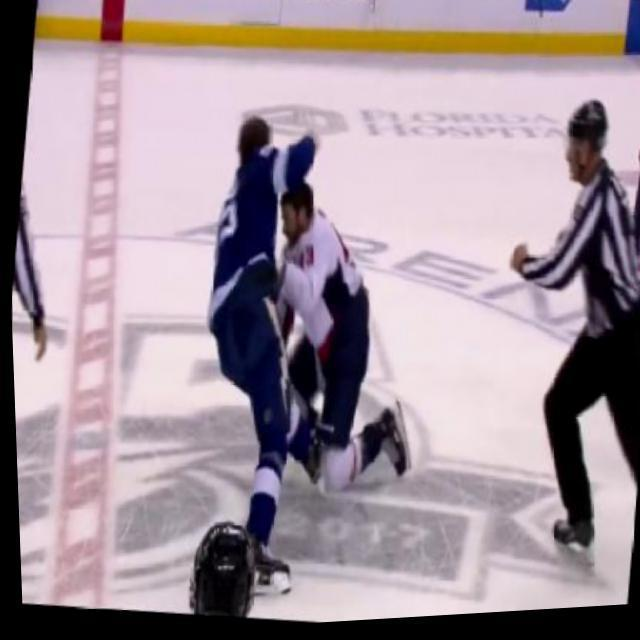fight: (177, 102, 446, 524)
non-fight: (480, 75, 640, 557)
